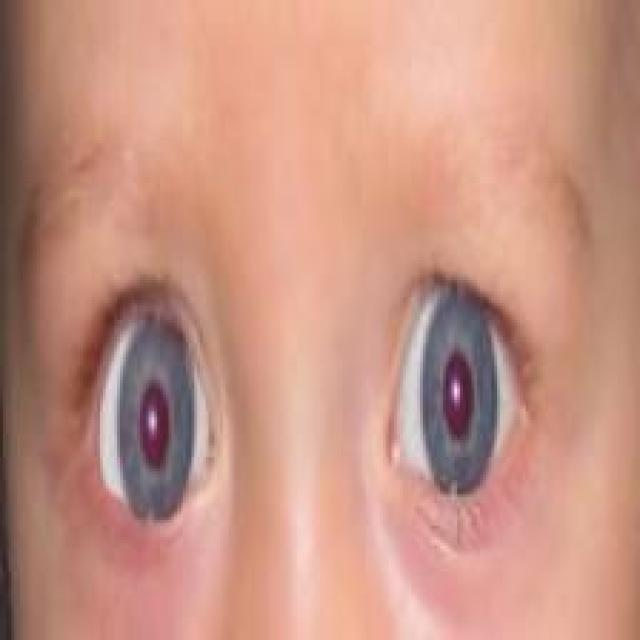reflexo-alterado: (77, 293, 243, 536), (384, 280, 519, 513)
